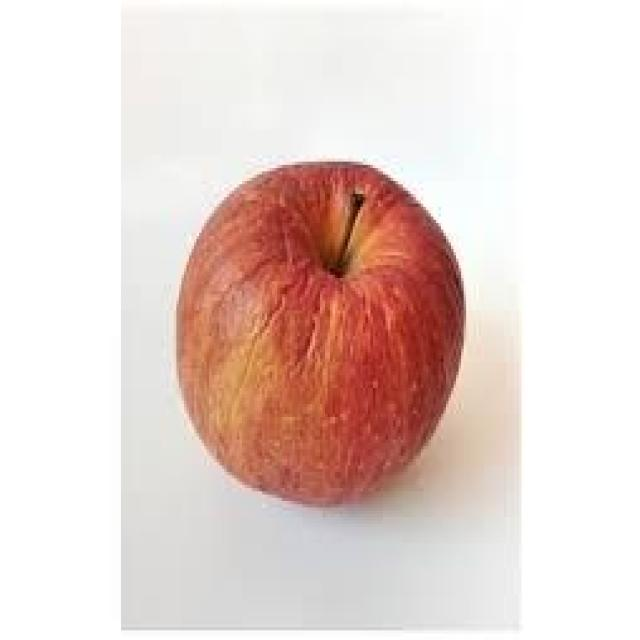organic: (174, 162, 466, 511)
